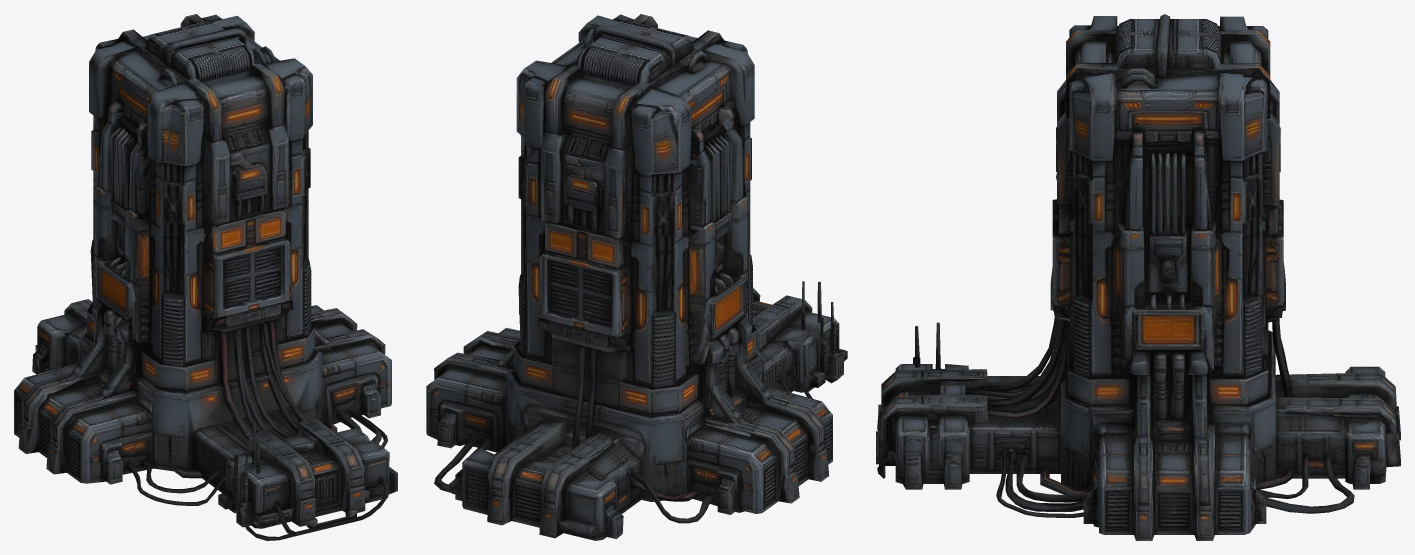
The model's file is selected.glb.
The picture shows the model from 3 angles, left to right: view 1: azimuth 30°, elevation 25°; view 2: azimuth 150°, elevation 25°; view 3: azimuth 270°, elevation 25°; orthographic projection. The views are drawn at different scales.
Parts seen in each view (by area): view 1: tripo_node_babfc9b1-2ea2-475d-8986-455b6054e9fe; view 2: tripo_node_babfc9b1-2ea2-475d-8986-455b6054e9fe; view 3: tripo_node_babfc9b1-2ea2-475d-8986-455b6054e9fe.
Part boxes in pixels (x1=…): tripo_node_babfc9b1-2ea2-475d-8986-455b6054e9fe: x1=14, y1=14, x2=397, y2=540; tripo_node_babfc9b1-2ea2-475d-8986-455b6054e9fe: x1=426, y1=14, x2=847, y2=540; tripo_node_babfc9b1-2ea2-475d-8986-455b6054e9fe: x1=876, y1=14, x2=1400, y2=540.
Bounding box in the file's own units: 0.8066 × 0.9082 × 0.998.
1 material, 1 textured.
